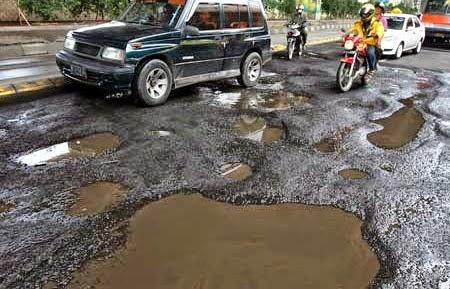Pothole: (45, 171, 432, 289), (195, 73, 450, 192), (2, 114, 183, 176), (194, 149, 277, 190)
